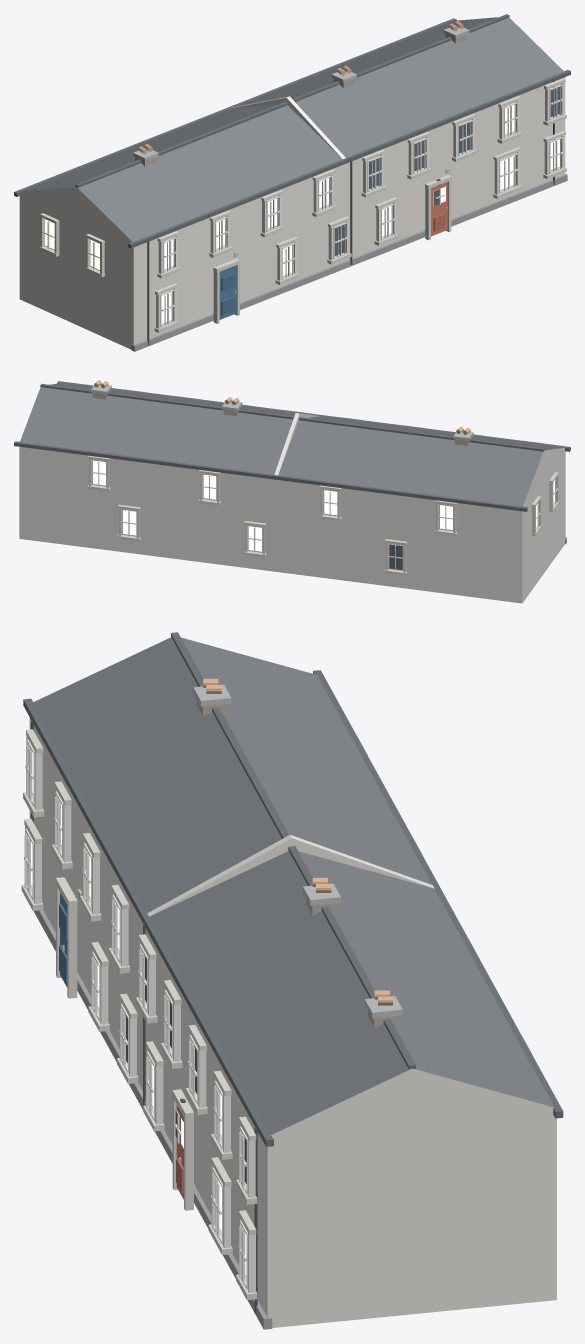
The picture shows the model from 3 angles, top to bottom: view 1: azimuth 30°, elevation 25°; view 2: azimuth 150°, elevation 25°; view 3: azimuth 270°, elevation 25°; orthographic projection. The views are drawn at different scales.
Visible parts, largest first — view 1: harl, slate, frame, dress_cream, slate_dk, plinth, pipe, dress_dark, door_blue, door_red; view 2: harl, slate, slate_dk, dress_cream, frame, dress_dark, window_glass_003, window_glass_008, window_glass_005, window_glass_004, window_glass_007, window_glass_006 (+1 smaller); view 3: slate, harl, frame, slate_dk, dress_cream, plinth, dress_dark, pipe.
Part boxes in pixels (x1,y1,x2,y2): harl: (19, 77, 565, 349); slate: (21, 17, 563, 241); frame: (42, 83, 564, 328); dress_cream: (39, 78, 566, 332); slate_dk: (14, 14, 570, 248); plinth: (131, 174, 567, 351); pipe: (147, 80, 554, 344); dress_dark: (133, 25, 469, 161); door_blue: (219, 265, 236, 319); door_red: (431, 182, 447, 236); harl: (19, 413, 565, 603); slate: (20, 383, 563, 506); slate_dk: (14, 381, 570, 511); dress_cream: (71, 382, 559, 575); frame: (91, 461, 557, 570); dress_dark: (91, 385, 473, 440); window_glass_003: (123, 509, 136, 535); window_glass_008: (324, 490, 337, 515); window_glass_005: (389, 544, 402, 569); window_glass_004: (248, 526, 261, 551); window_glass_007: (203, 474, 216, 499); window_glass_006: (93, 460, 105, 485); slate: (32, 637, 554, 1135); harl: (29, 717, 556, 1327); frame: (24, 734, 255, 1292); slate_dk: (23, 632, 563, 1146); dress_cream: (21, 729, 531, 1300); plinth: (33, 910, 272, 1329); dress_dark: (193, 684, 402, 1018); pipe: (31, 720, 257, 1313).
Bounding box in the file's own units: 24.83 × 6.64 × 12.08.
